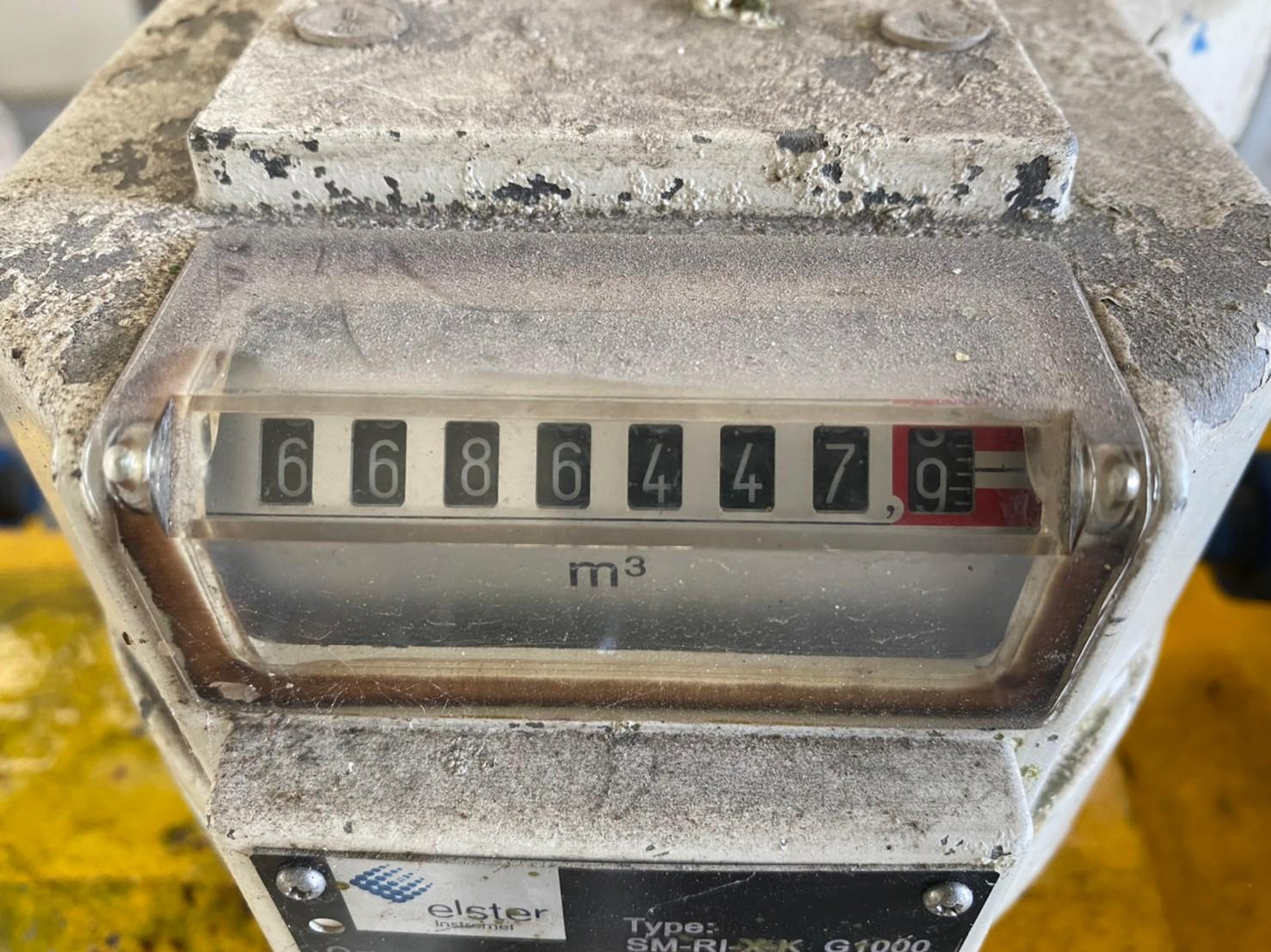analog_dial: (205, 411, 1039, 535)
